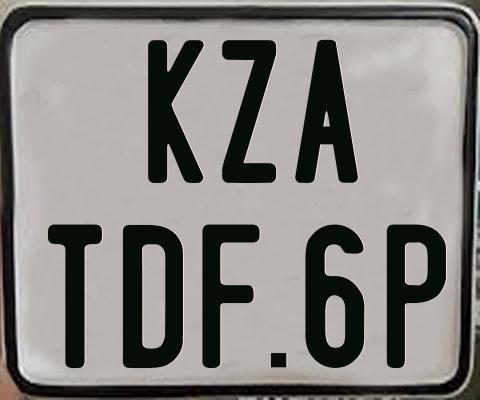6: (305, 222, 370, 366)
A: (295, 40, 364, 188)
D: (120, 223, 182, 371)
F: (202, 222, 260, 369)
K: (146, 39, 207, 183)
P: (387, 221, 449, 368)
T: (45, 224, 104, 372)
Z: (219, 39, 275, 183)
